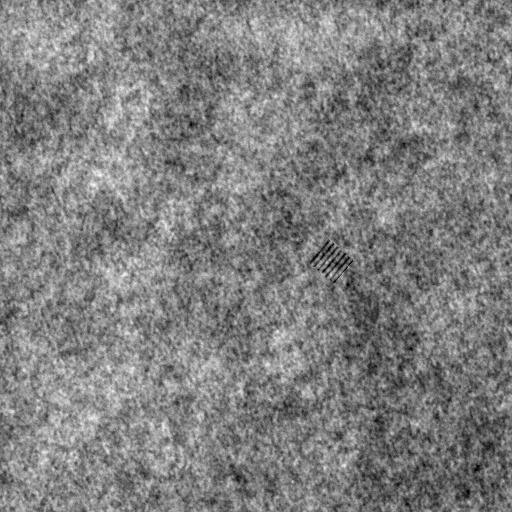DefectTypeB: (309, 239, 357, 281)
